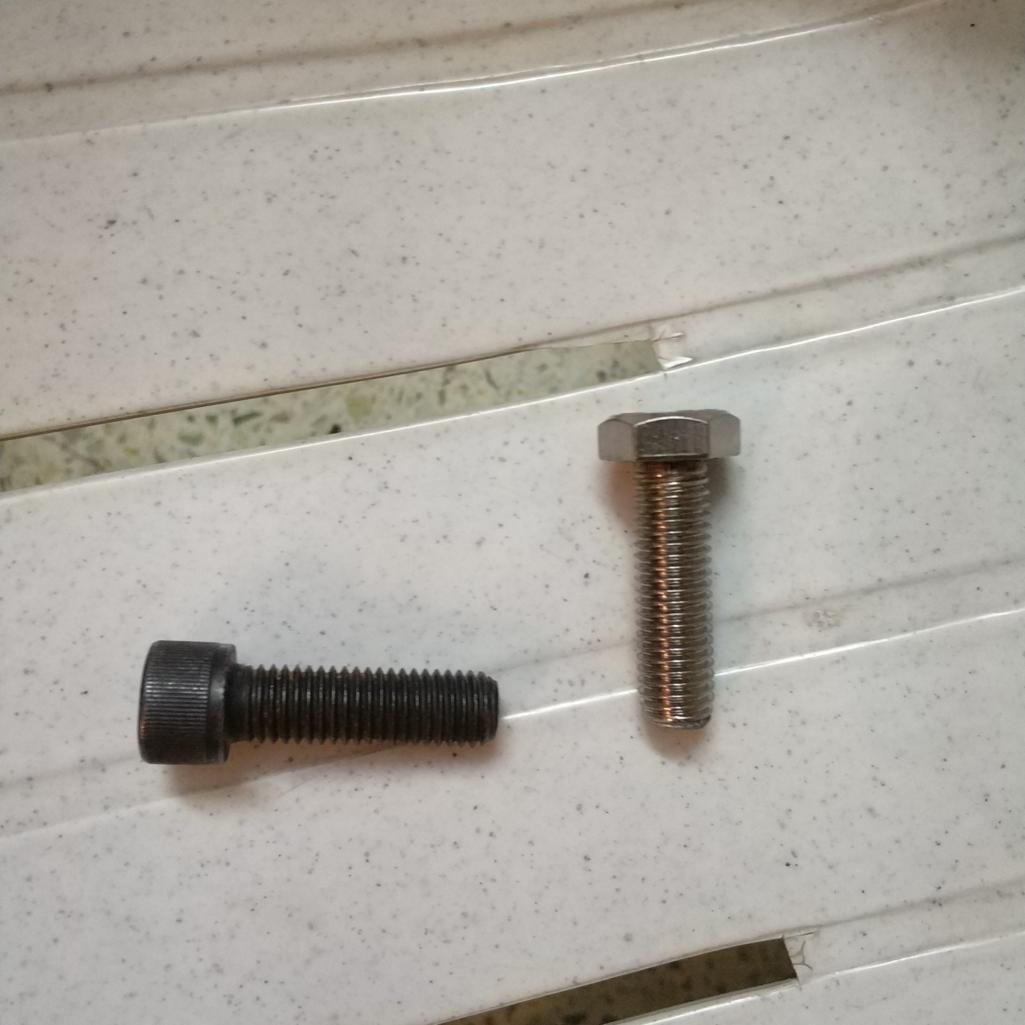screwtype1black: (128, 628, 505, 768)
screwtype2silver: (591, 399, 750, 741)
